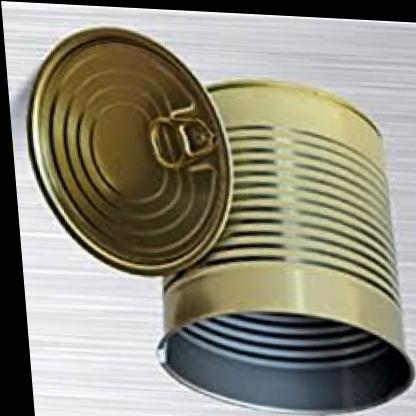Metal: (27, 1, 416, 416)
